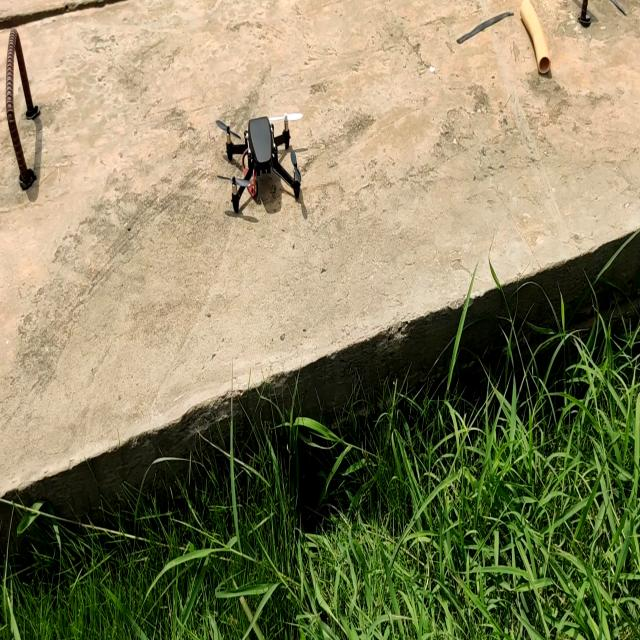drone: (200, 108, 332, 220)
